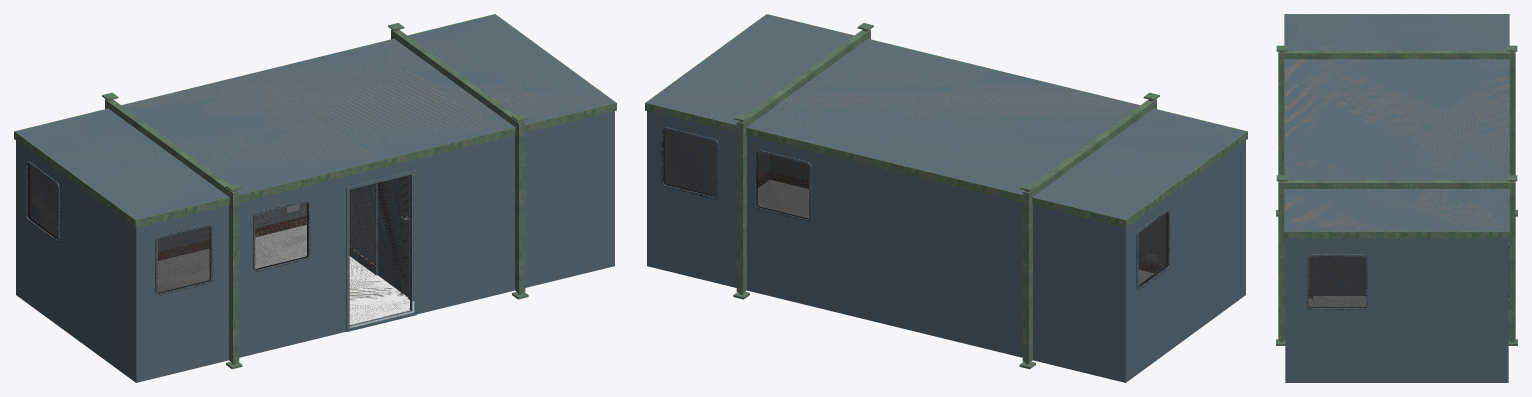
The model's file is SM_CampCabin.fbx.
3 renders of one model, left to right at view 1: azimuth 30°, elevation 25°; view 2: azimuth 150°, elevation 25°; view 3: azimuth 270°, elevation 25°, orthographic. The views are drawn at different scales.
Parts seen in each view (by area): view 1: SM_CampCabin; view 2: SM_CampCabin; view 3: SM_CampCabin.
Boxes of the visible parts, <box> form: SM_CampCabin: <box>14,14,616,382</box>; SM_CampCabin: <box>645,14,1247,382</box>; SM_CampCabin: <box>1276,14,1517,382</box>.
Bounding box in the file's own units: 343 × 731 × 260.
Materials: 16 (7 with a texture image).
